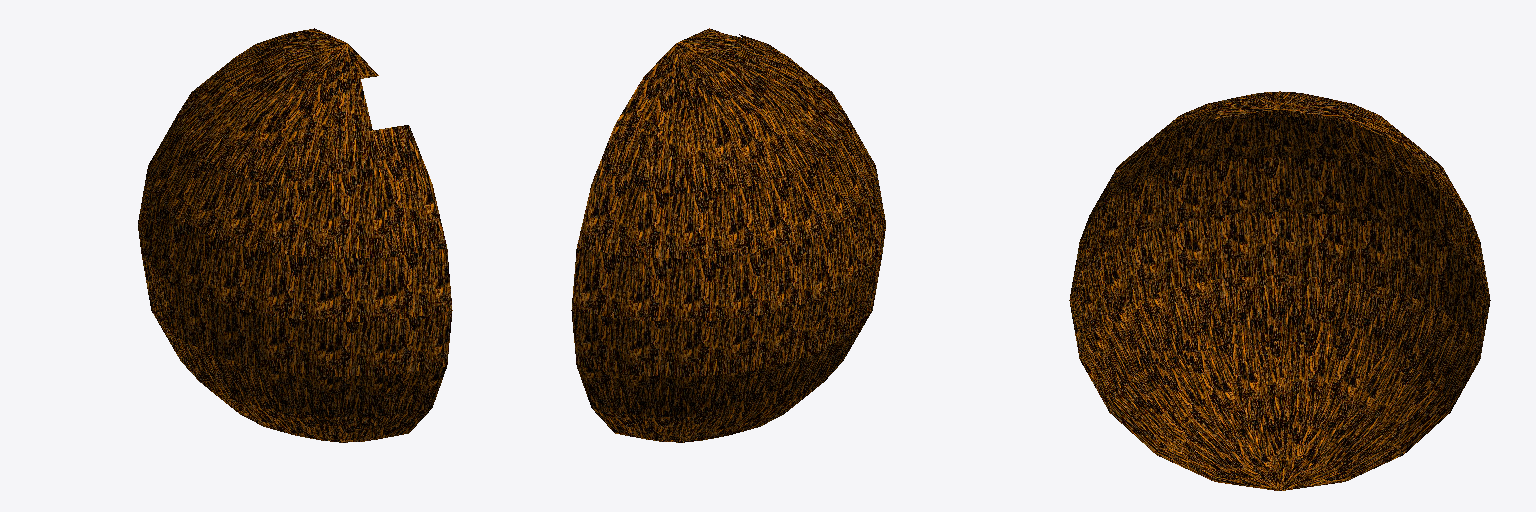
3 renders of one model, left to right at view 1: azimuth 30°, elevation 25°; view 2: azimuth 150°, elevation 25°; view 3: azimuth 270°, elevation 25°, orthographic.
Parts seen in each view (by area): view 1: Mesh1 SimpleSphere02_1 Model; view 2: Mesh1 SimpleSphere02_1 Model; view 3: Mesh1 SimpleSphere02_1 Model.
Boxes of the visible parts, x1=… form: Mesh1 SimpleSphere02_1 Model: x1=138, y1=28, x2=452, y2=442; Mesh1 SimpleSphere02_1 Model: x1=571, y1=28, x2=885, y2=442; Mesh1 SimpleSphere02_1 Model: x1=1069, y1=91, x2=1490, y2=490.
Bounding box in the file's own units: 63.09 × 126 × 126.
Materials: 1 (1 with a texture image).